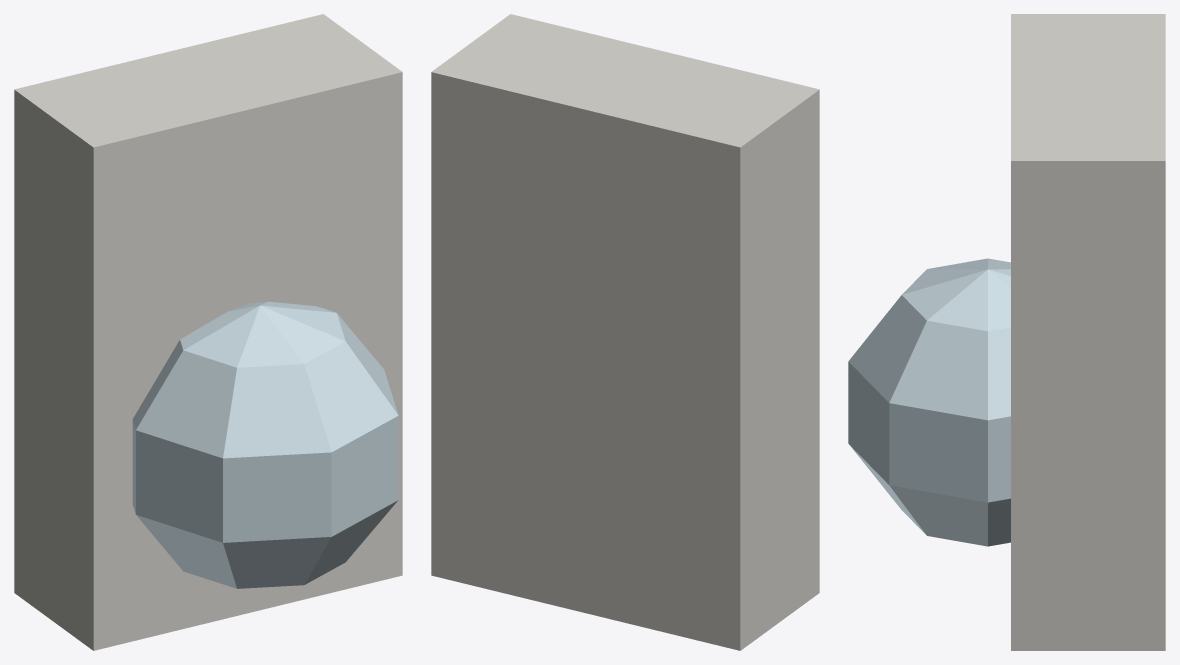
The model's file is bank-vault-heist-kit-motion-sensor-e75b3ccf__25105.glb.
3 renders of one model, left to right at view 1: azimuth 30°, elevation 25°; view 2: azimuth 150°, elevation 25°; view 3: azimuth 270°, elevation 25°, orthographic. The views are drawn at different scales.
Parts seen in each view (by area): view 1: motion-sensor; view 2: motion-sensor; view 3: motion-sensor.
Boxes of the visible parts, bbox=[...] form: motion-sensor: bbox=[14, 14, 402, 650]; motion-sensor: bbox=[431, 14, 819, 650]; motion-sensor: bbox=[848, 14, 1165, 650].
Size of the model in its own units: 0.09 by 0.14 by 0.0821.
